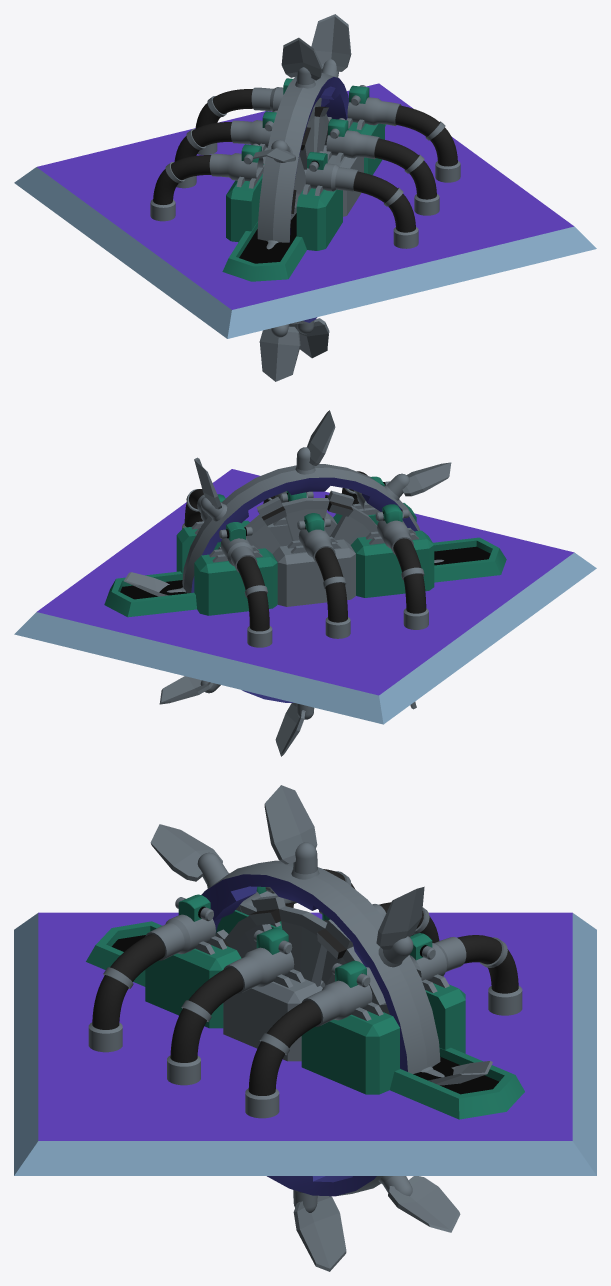
The model's file is 58_Haarvester_FUD3.fbx.
The picture shows the model from 3 angles, top to bottom: view 1: azimuth 30°, elevation 25°; view 2: azimuth 150°, elevation 25°; view 3: azimuth 270°, elevation 25°; orthographic projection. The views are drawn at different scales.
Parts seen in each view (by area): view 1: foundation3, pCylinder116 (×6), pPipe28, pPlane33 (×4), harv3, pCube123, pCube127, pCylinder115, pCube131, pCube128; view 2: foundation3, pCylinder116 (×4), pCube127 (×2), pPipe28, harv3, pPlane33 (×6), pCylinder115, pCube132, pCube128, pCube131; view 3: foundation3, pCylinder116 (×5), pPipe28, pPlane33 (×6), harv3, pCube128, pCylinder115, pCube131, pCube123, pCube127, pSphere48, pSphere49 (+1 smaller).
Boxes of the visible parts, x1,y1,x2,y2 form: foundation3: (14, 83, 596, 338); pCylinder116 (×6): (150, 78, 460, 248); pPipe28: (257, 73, 348, 324); pPlane33 (×4): (259, 14, 351, 381); harv3: (222, 124, 385, 281); pCube123: (296, 188, 342, 250); pCube127: (226, 164, 264, 242); pCylinder115: (291, 98, 331, 219); pCube131: (327, 155, 363, 216); pCube128: (348, 122, 384, 175); foundation3: (14, 469, 596, 724); pCylinder116 (×4): (182, 489, 428, 647); pCube127 (×2): (194, 530, 434, 615); pPipe28: (182, 464, 420, 702); harv3: (104, 537, 506, 617); pPlane33 (×6): (124, 410, 451, 756); pCylinder115: (218, 490, 377, 553); pCube132: (272, 539, 355, 606); pCube128: (176, 520, 249, 573); pCube131: (268, 512, 337, 546); foundation3: (14, 912, 596, 1175); pCylinder116 (×5): (88, 894, 522, 1118); pPipe28: (201, 860, 440, 1196); pPlane33 (×6): (150, 785, 492, 1271); harv3: (86, 921, 524, 1119); pCube128: (301, 1011, 399, 1094); pCylinder115: (215, 895, 389, 1014); pCube131: (223, 978, 319, 1061); pCube123: (145, 945, 241, 1028); pCube127: (425, 983, 465, 1053); pSphere48: (291, 842, 319, 879); pSphere49: (197, 852, 229, 888).
Size of the model in its own units: 78.74 by 69.51 by 78.76.
